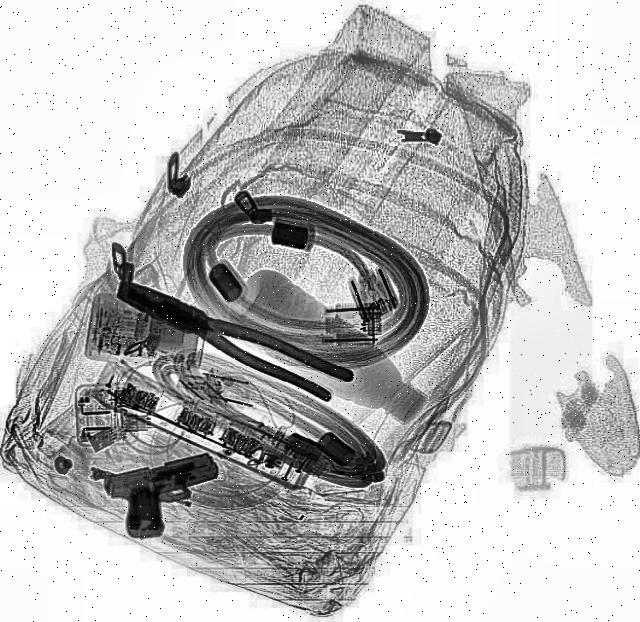Gun: (100, 449, 232, 544)
Pliers: (105, 268, 353, 404)
